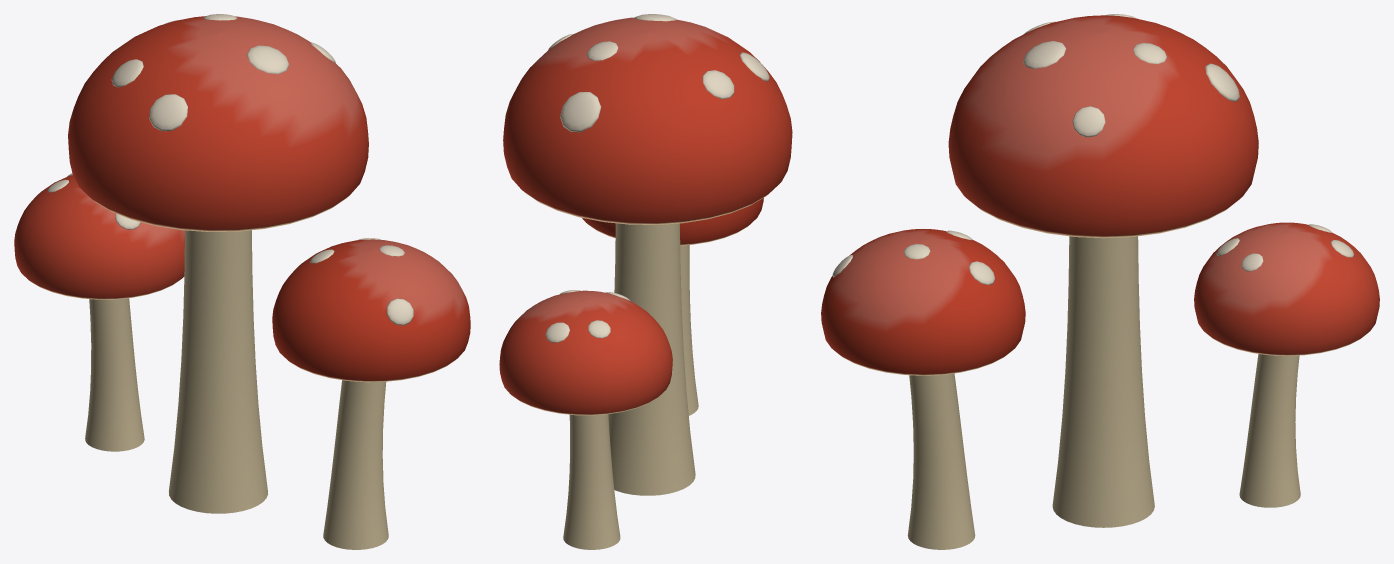
The model's file is mushroom-cluster.obj.
3 views of the same model, side by side, from view 1: azimuth 30°, elevation 25°; view 2: azimuth 150°, elevation 25°; view 3: azimuth 270°, elevation 25° (orthographic). The views are drawn at different scales.
Parts seen in each view (by area): view 1: mushroom; view 2: mushroom; view 3: mushroom.
Part boxes in pixels (x1=…): mushroom: x1=14, y1=14, x2=470, y2=549; mushroom: x1=499, y1=14, x2=792, y2=549; mushroom: x1=821, y1=14, x2=1379, y2=549.
Size of the model in its own units: 421 by 656 by 702.
